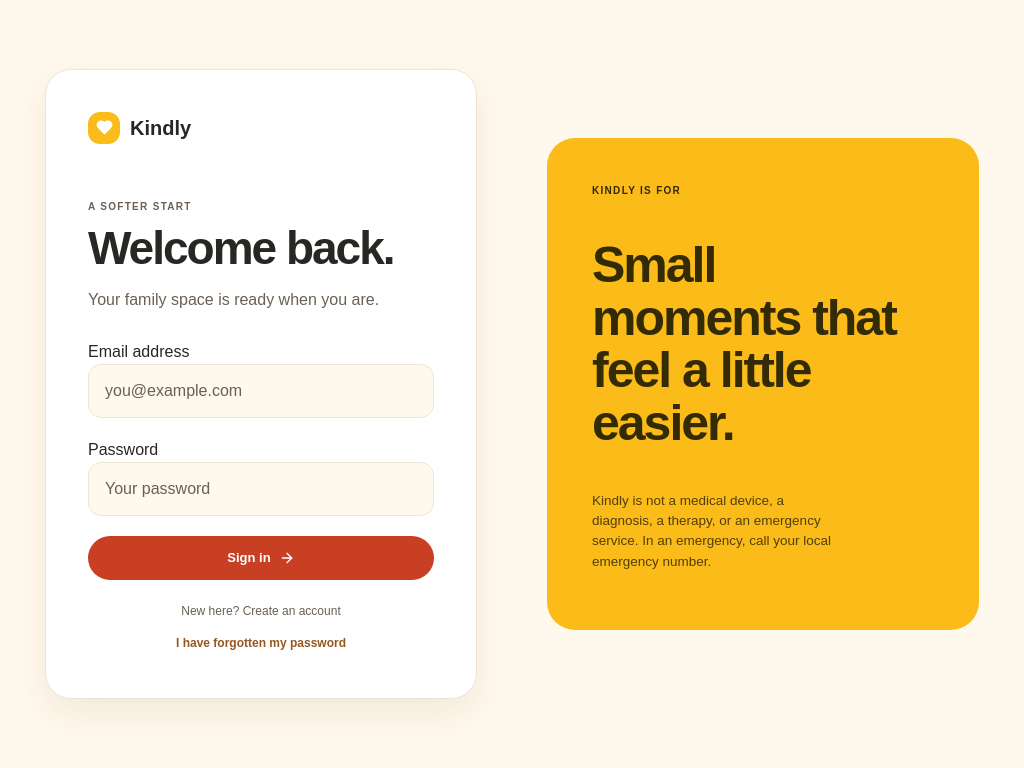
Test case: the sign-in screen › labels every field and connects errors to them
The image size is (1024, 768).
Expected: the field labelled "Email address" is shown, [88,364,434,418]
Expected: the password field labelled "Password" is shown, [88,462,434,516]
Click the button "Sign in" at (261,558), box [88,536,434,580]
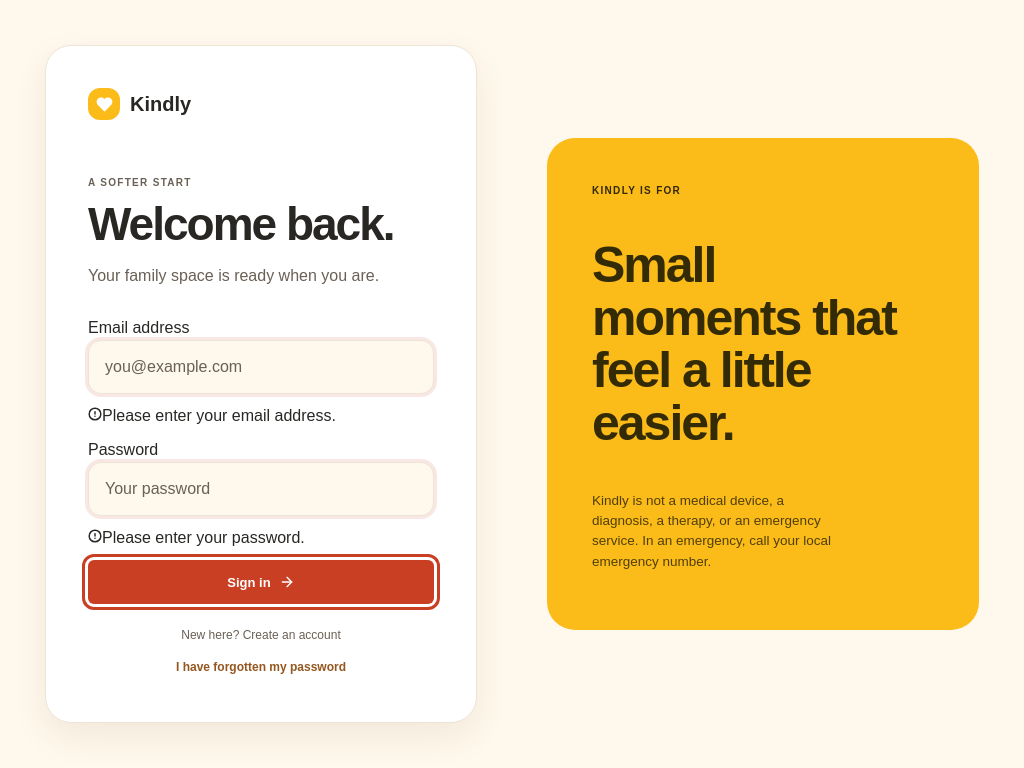
Expected: the text "Please enter your email address." is shown, [88,407,336,424]
